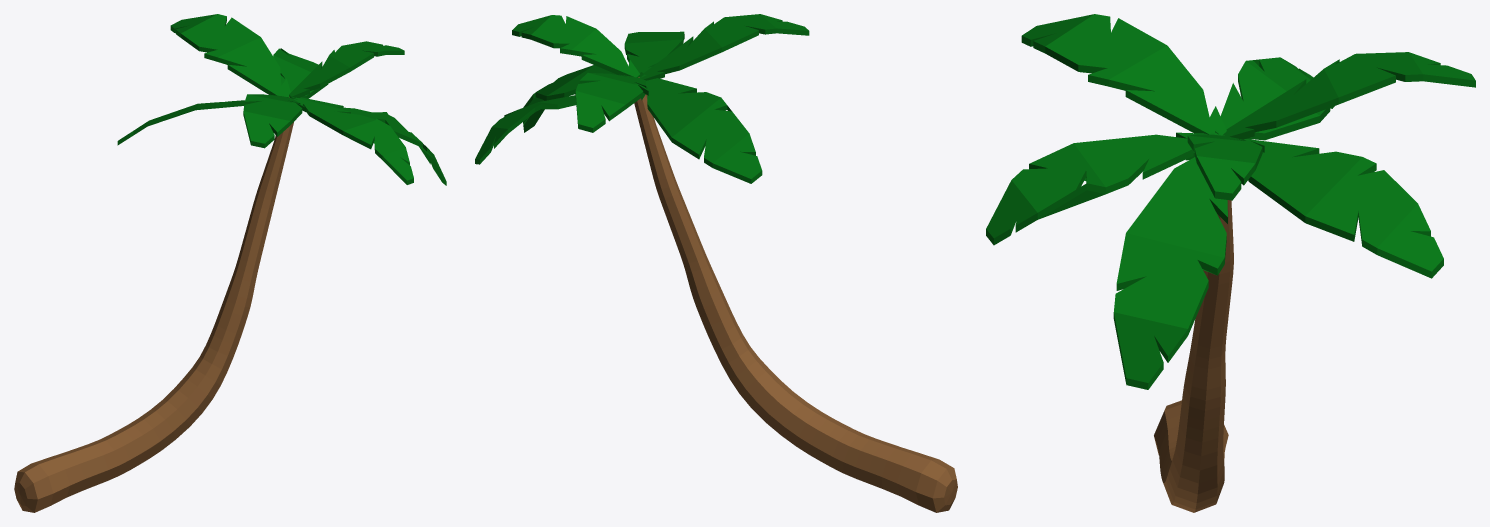
The model's file is Palme 1.fbx.
The picture shows the model from 3 angles, left to right: view 1: azimuth 30°, elevation 25°; view 2: azimuth 150°, elevation 25°; view 3: azimuth 270°, elevation 25°; orthographic projection. The views are drawn at different scales.
Visible parts, largest first — view 1: Plane; view 2: Plane; view 3: Plane.
Part boxes in pixels (x1,y1,x2,y2): Plane: (14,14,446,512); Plane: (475,14,957,512); Plane: (986,14,1475,512).
Bounding box in the file's own units: 472 × 417 × 315.
Materials: 1 (1 with a texture image).
